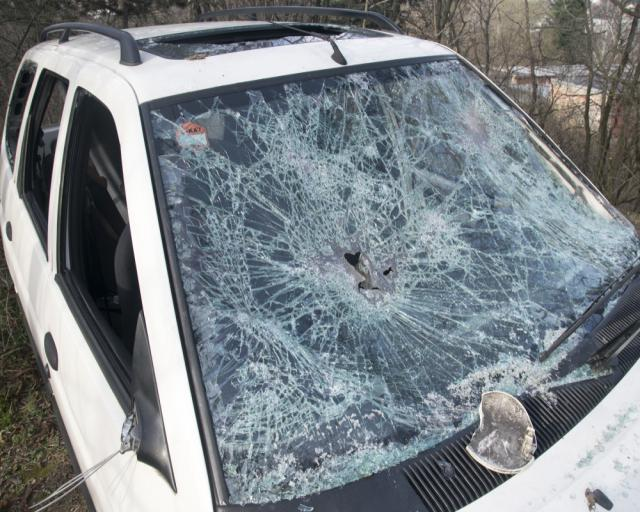glass shatter: (149, 57, 640, 503)
